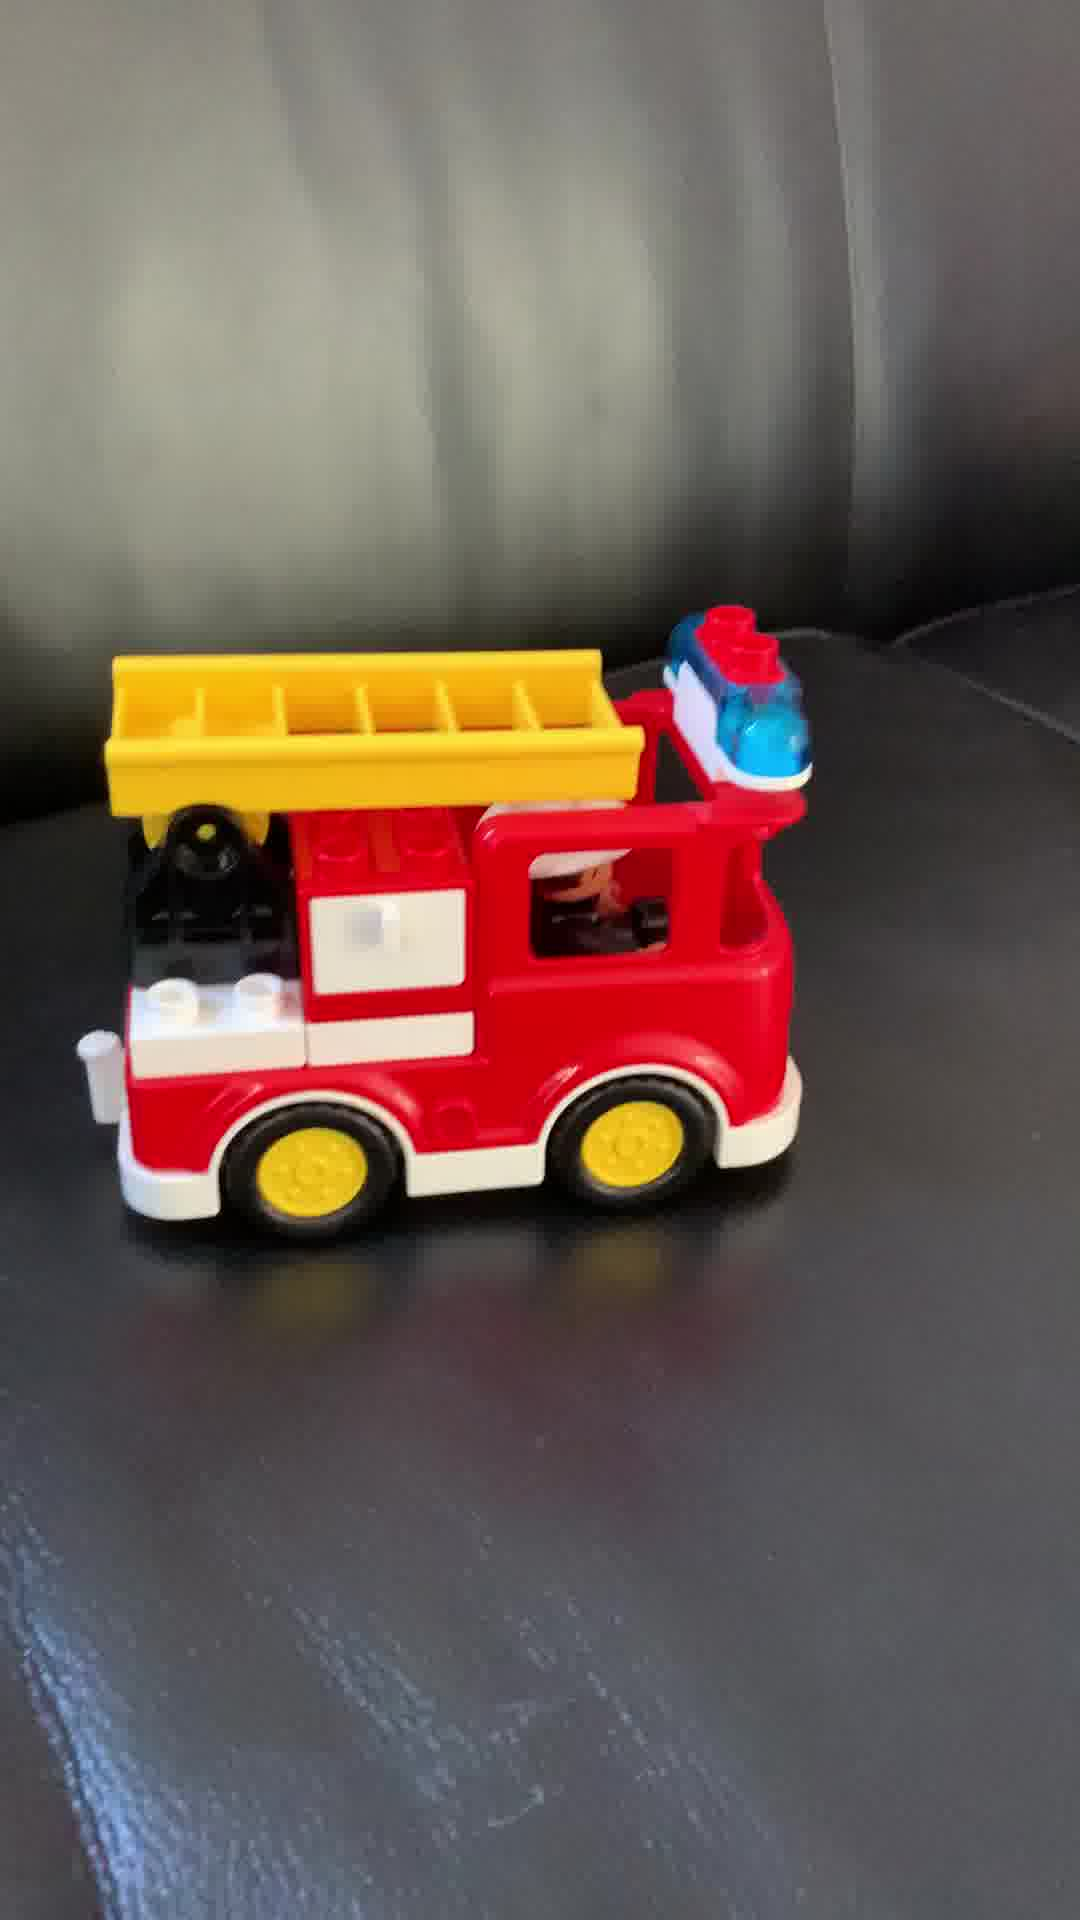lego fire truck: (49, 601, 815, 1242)
